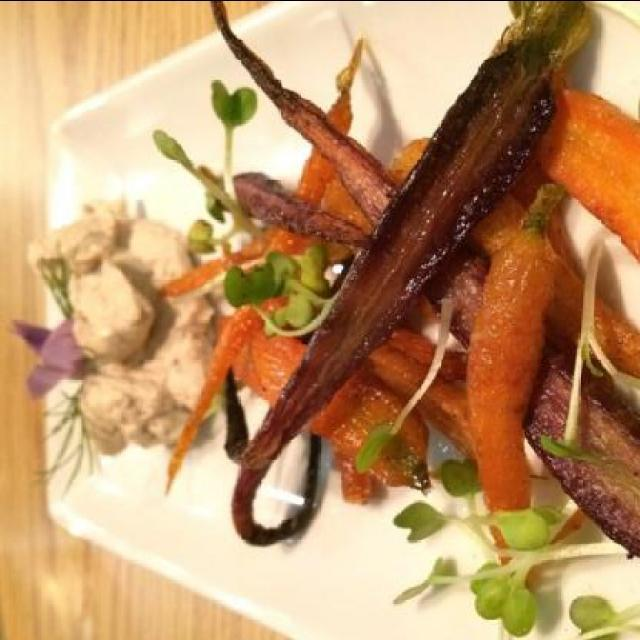Carrot: (156, 1, 638, 559), (524, 60, 640, 242)
